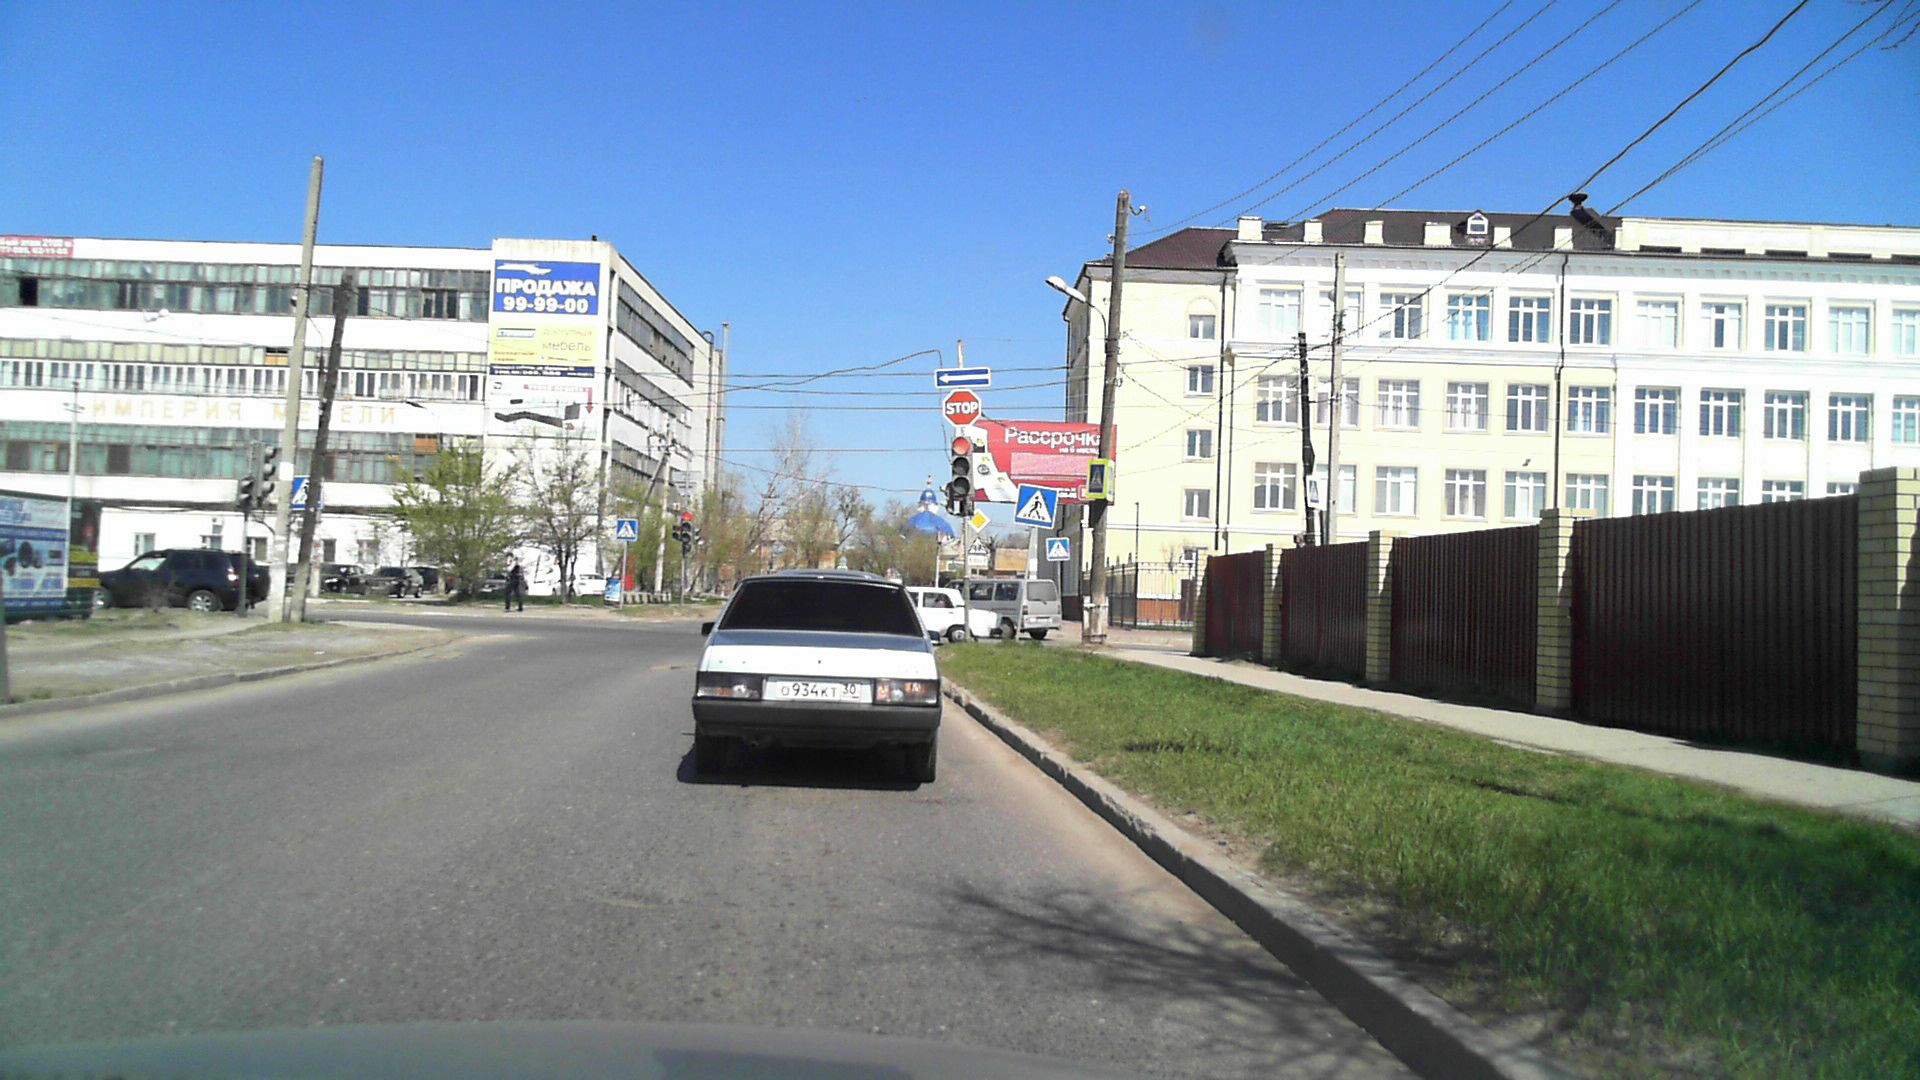One-Way Traffic: (934, 369, 990, 386)
Pedestrian Crossing: (1018, 487, 1055, 527)
